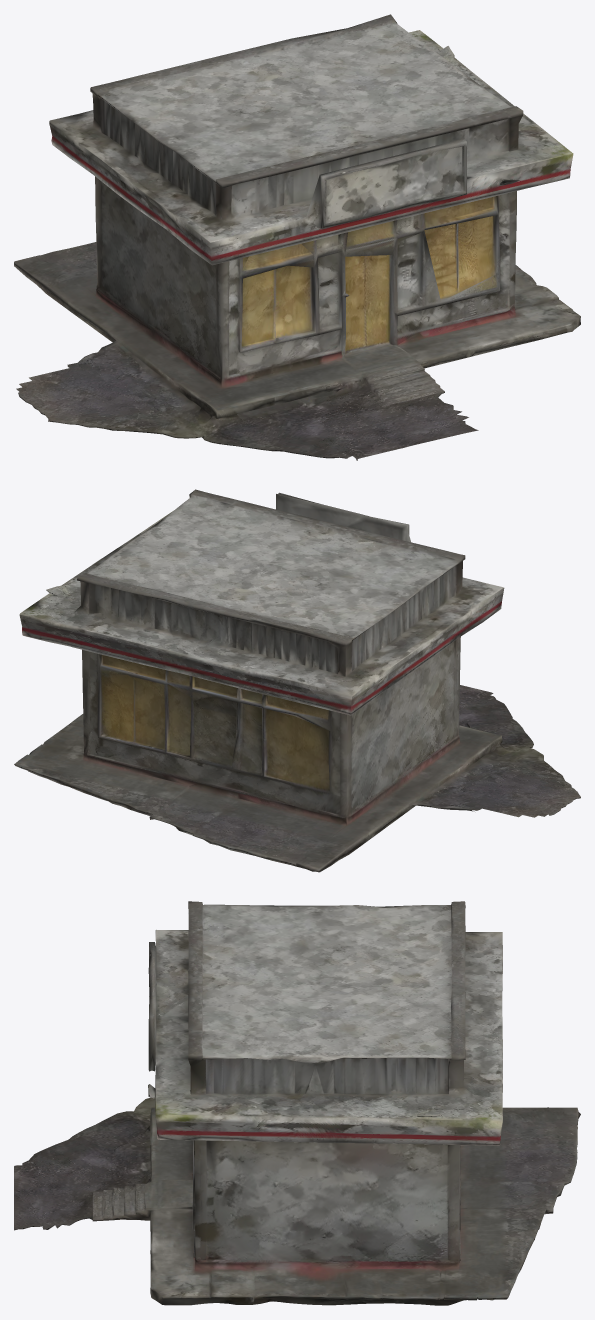
The model's file is store.glb.
The picture shows the model from 3 angles, top to bottom: view 1: azimuth 30°, elevation 25°; view 2: azimuth 150°, elevation 25°; view 3: azimuth 270°, elevation 25°; orthographic projection. The views are drawn at different scales.
Visible parts, largest first — view 1: tripo_node_d3baff0d-bb14-4386-936d-98bb71b2bbcc; view 2: tripo_node_d3baff0d-bb14-4386-936d-98bb71b2bbcc; view 3: tripo_node_d3baff0d-bb14-4386-936d-98bb71b2bbcc.
Part boxes in pixels (x1=…): tripo_node_d3baff0d-bb14-4386-936d-98bb71b2bbcc: x1=14, y1=14, x2=580, y2=460; tripo_node_d3baff0d-bb14-4386-936d-98bb71b2bbcc: x1=14, y1=489, x2=580, y2=872; tripo_node_d3baff0d-bb14-4386-936d-98bb71b2bbcc: x1=14, y1=901, x2=580, y2=1305.
Bounding box in the file's own units: 1 × 0.4399 × 0.9326.
1 material, 1 textured.
